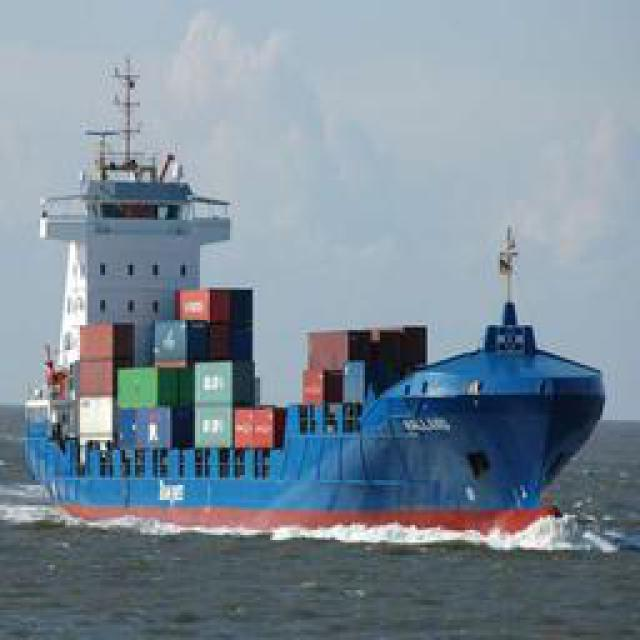Ship: (26, 124, 609, 544)
